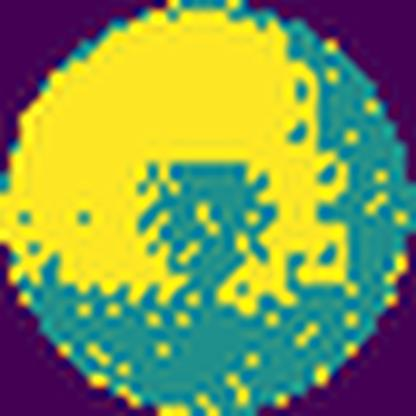Donut: (0, 0, 361, 317)
